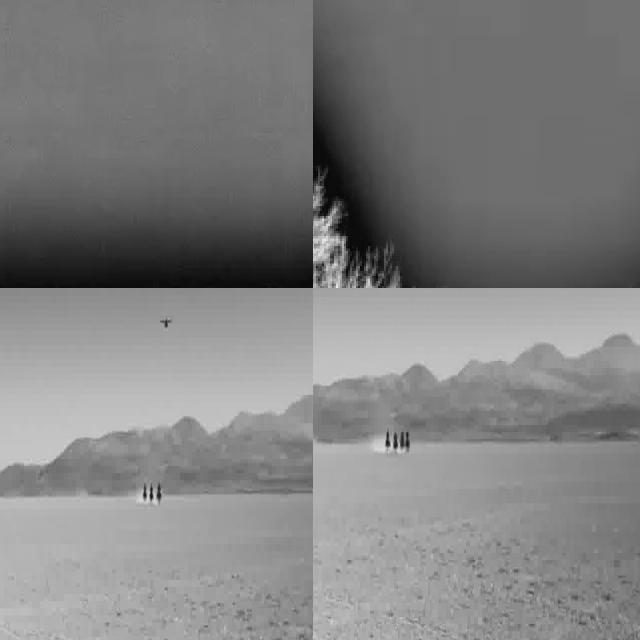drone: (157, 310, 177, 334)
